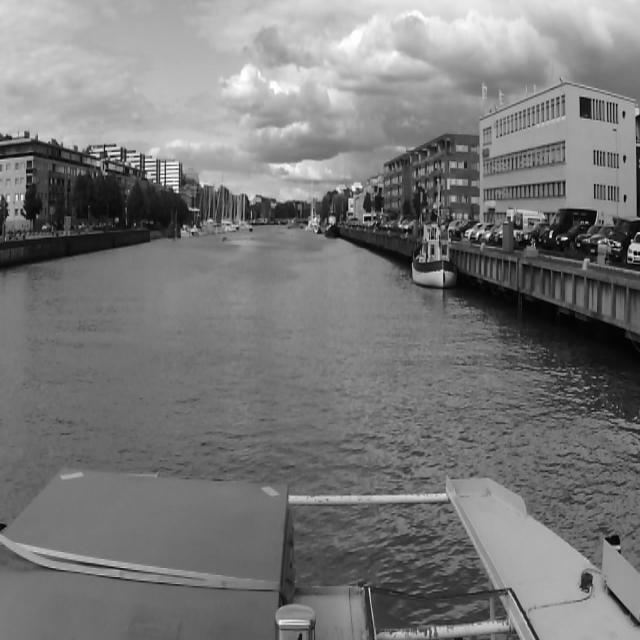ship: (412, 207, 456, 291), (191, 185, 209, 236), (305, 180, 316, 232), (324, 204, 338, 241), (181, 224, 195, 240), (286, 218, 304, 229), (220, 233, 228, 243), (248, 224, 254, 233)
